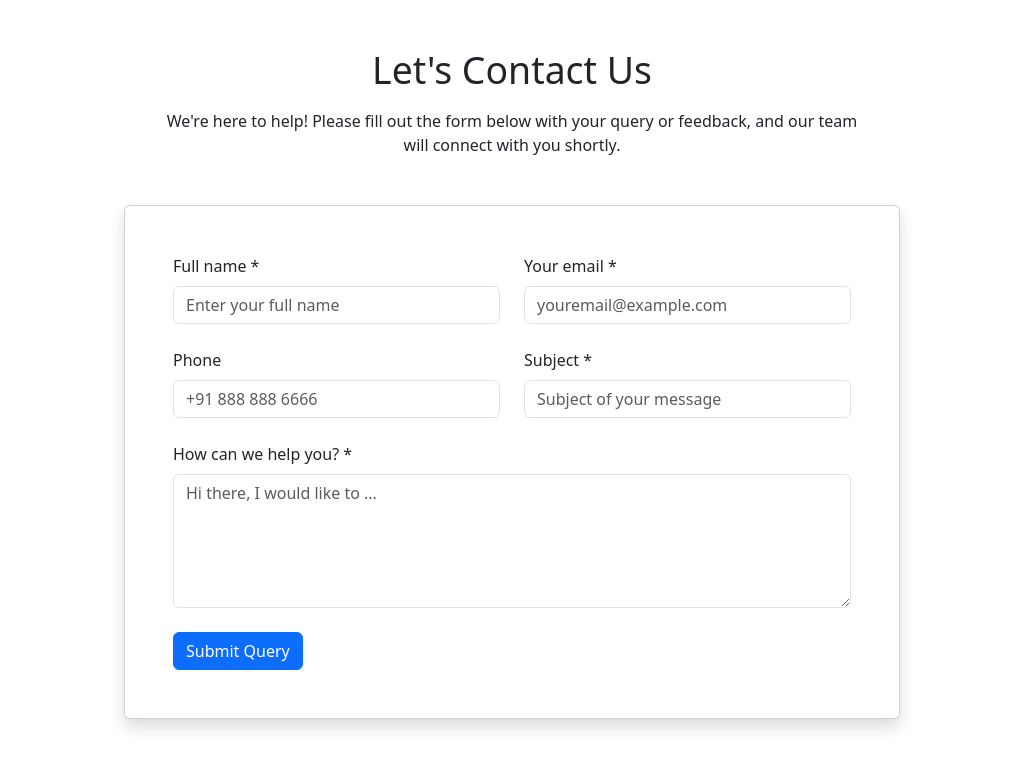
Test case: ContactForm › shows error message if API fails
Type "Ashu" into the field labelled "Full name *" at [336, 305], box top-left (173, 286), bottom-right (500, 324)
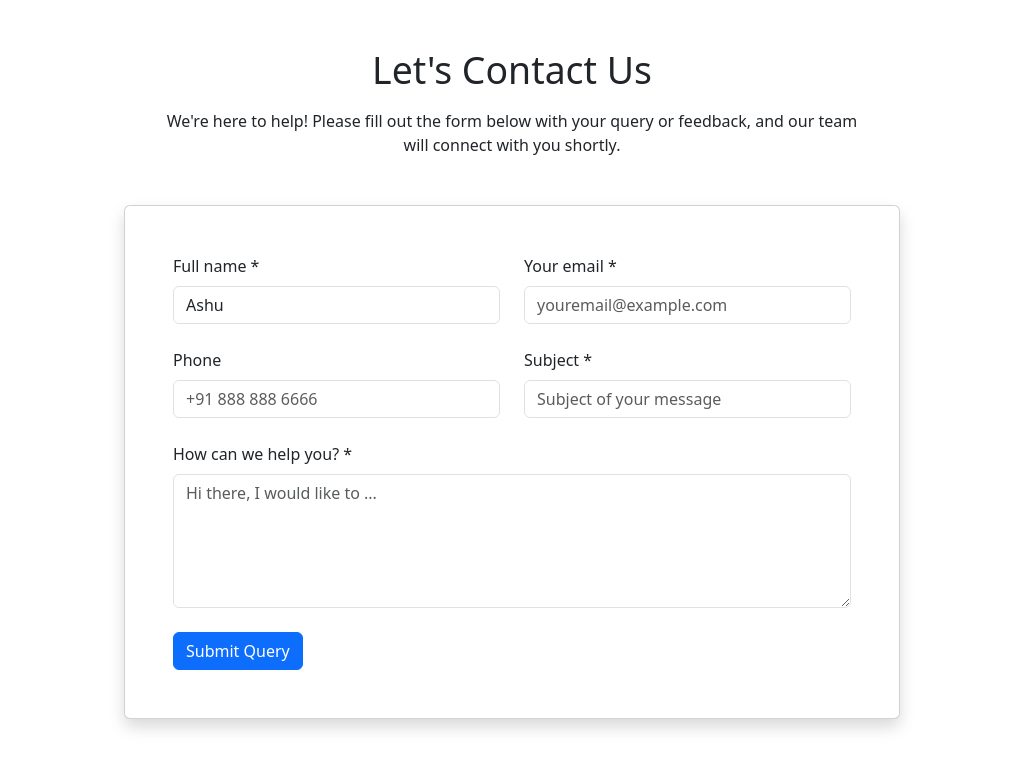
Type "ashu@example.com" into the field labelled "Your email *" at [688, 305], box top-left (524, 286), bottom-right (851, 324)
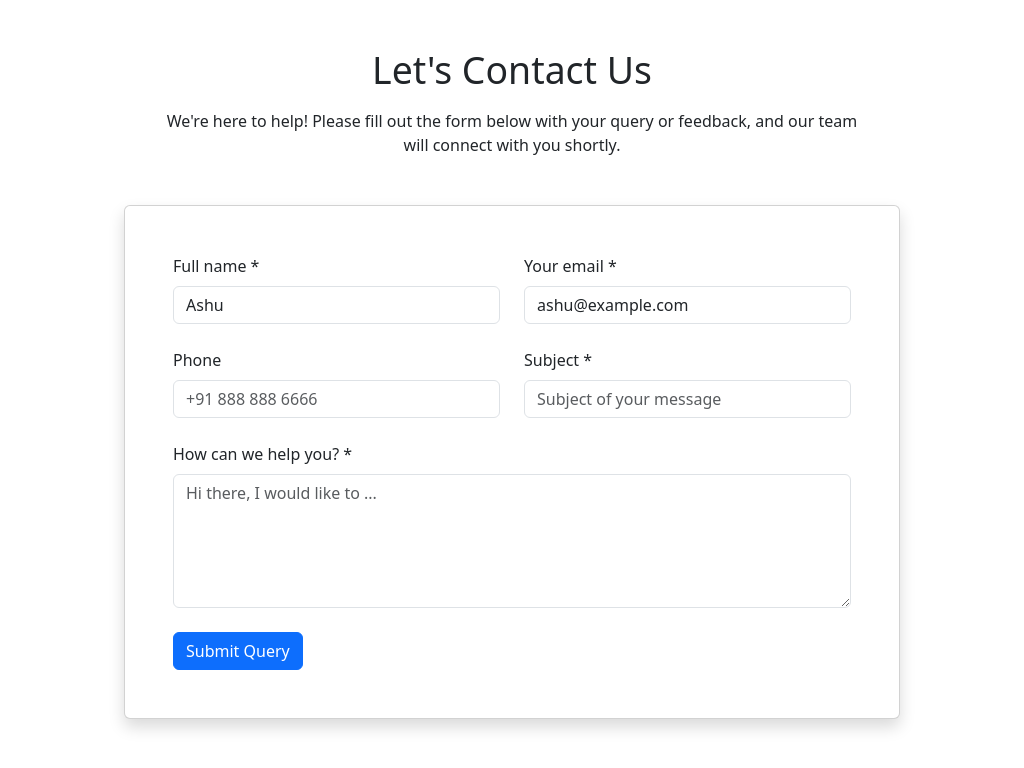
Type "Subject" into the field labelled "Subject *" at [688, 399], box top-left (524, 380), bottom-right (851, 418)
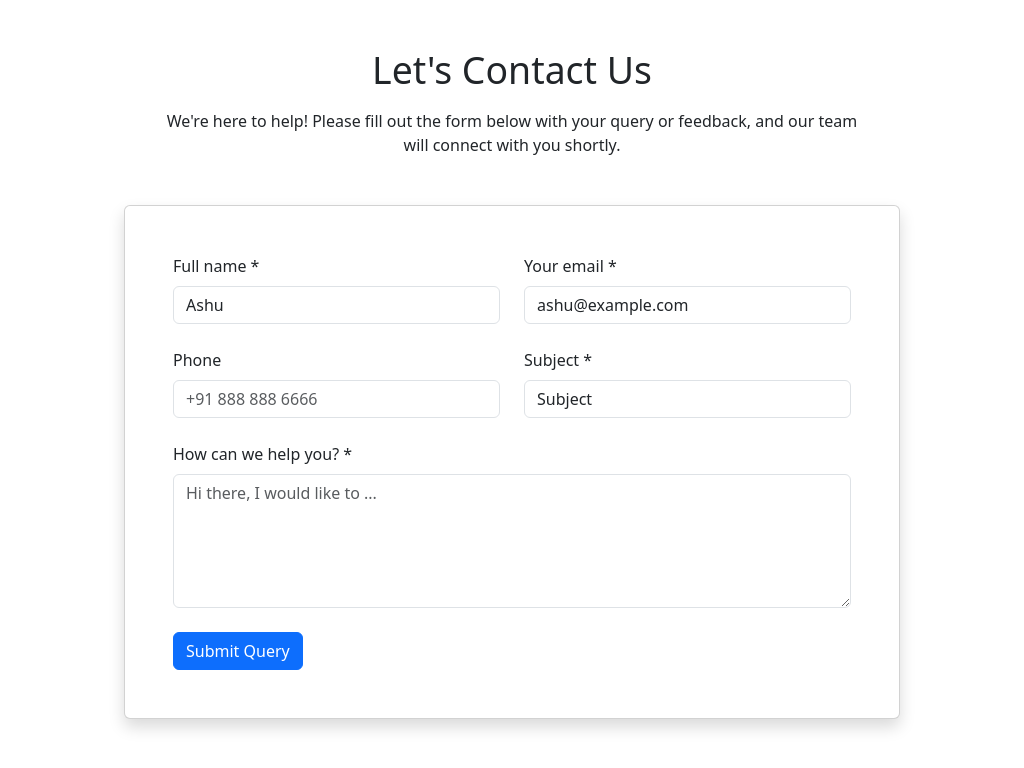
Type "Some message" into the text box labelled "How can we help you? *" at [512, 541], box top-left (173, 474), bottom-right (851, 608)
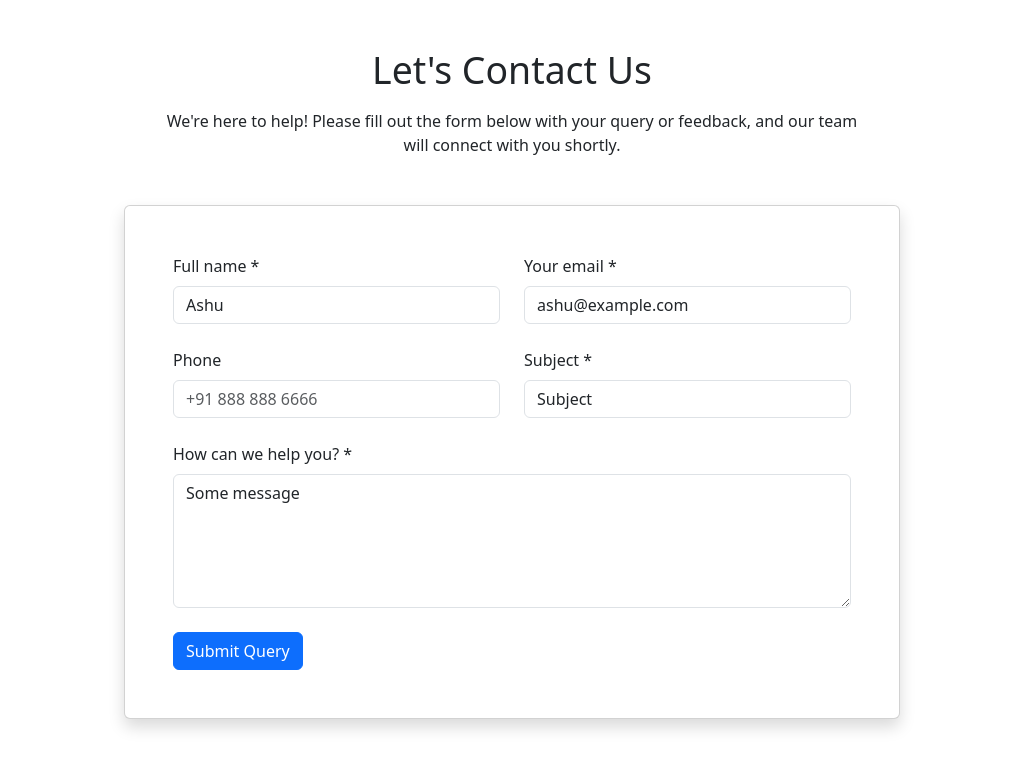
Click the button "Submit Query" at [238, 651], box top-left (173, 632), bottom-right (303, 670)
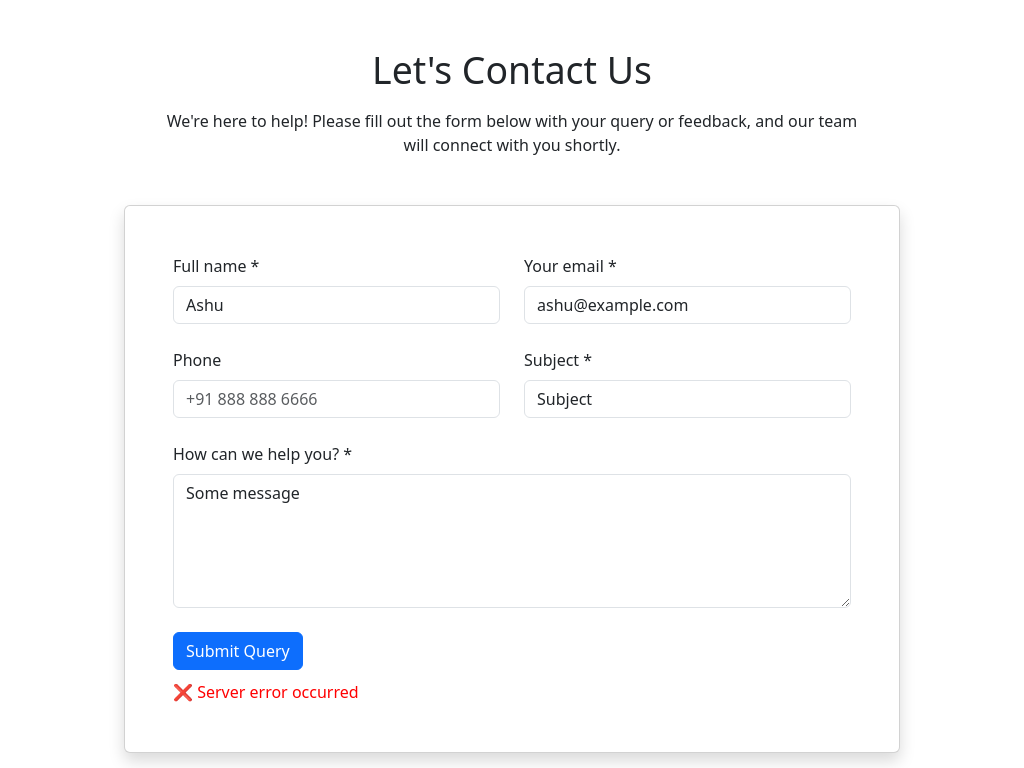
Result: the text "❌ Server error occurred" is shown at top-left (173, 681), bottom-right (359, 703)
